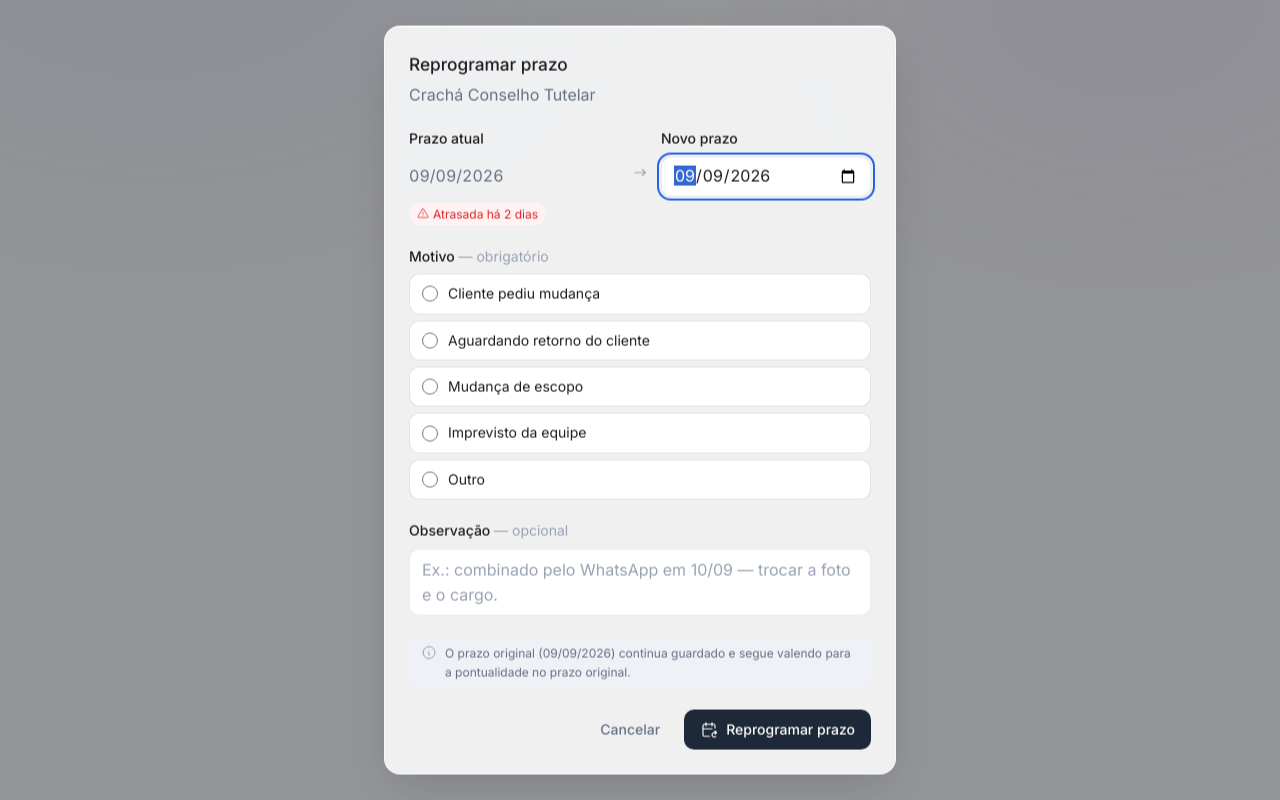
Test case: ReprogramarPrazoDialog › ano pela metade não vira prazo
The image size is (1280, 800).
Type "0202-09-18" into the date field labelled "Novo prazo" at [766, 176], box [661,156,871,196]
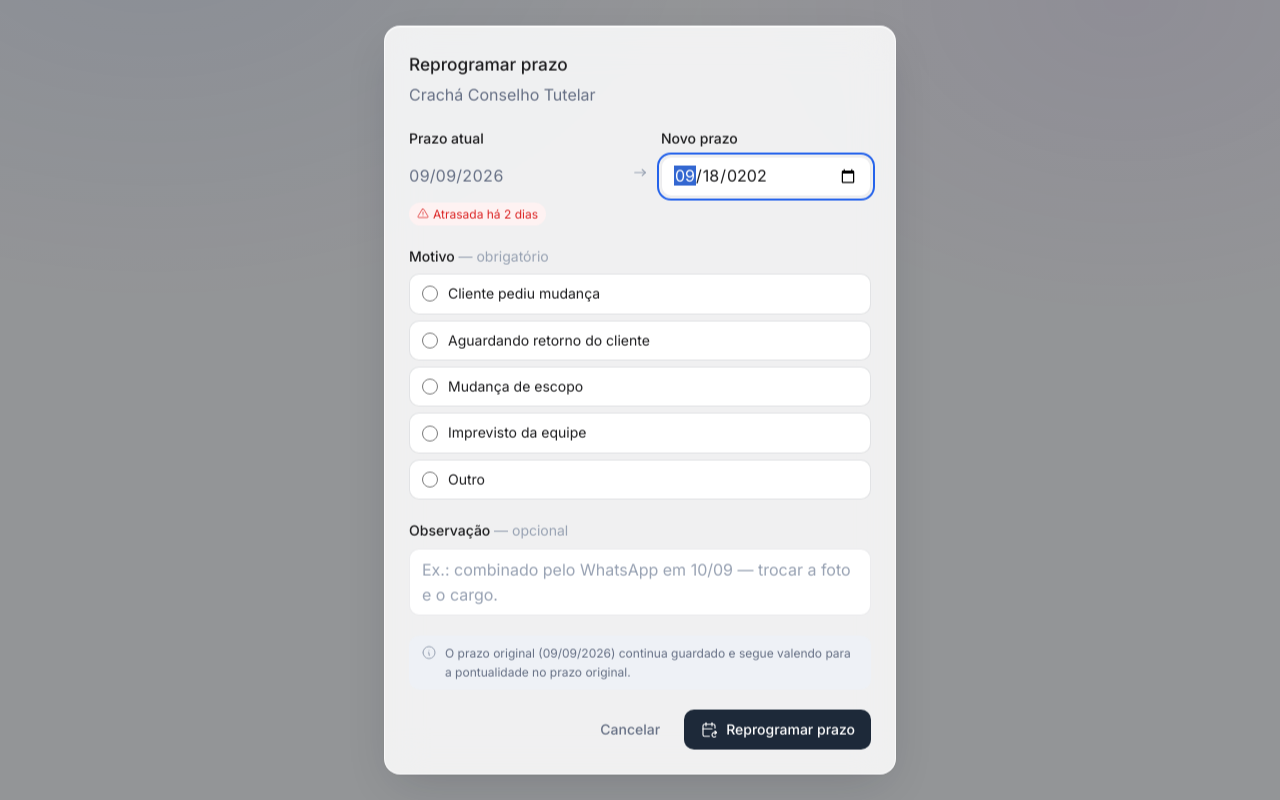
Click the radio button labelled "Outro" at [430, 480], box [422,472,438,488]
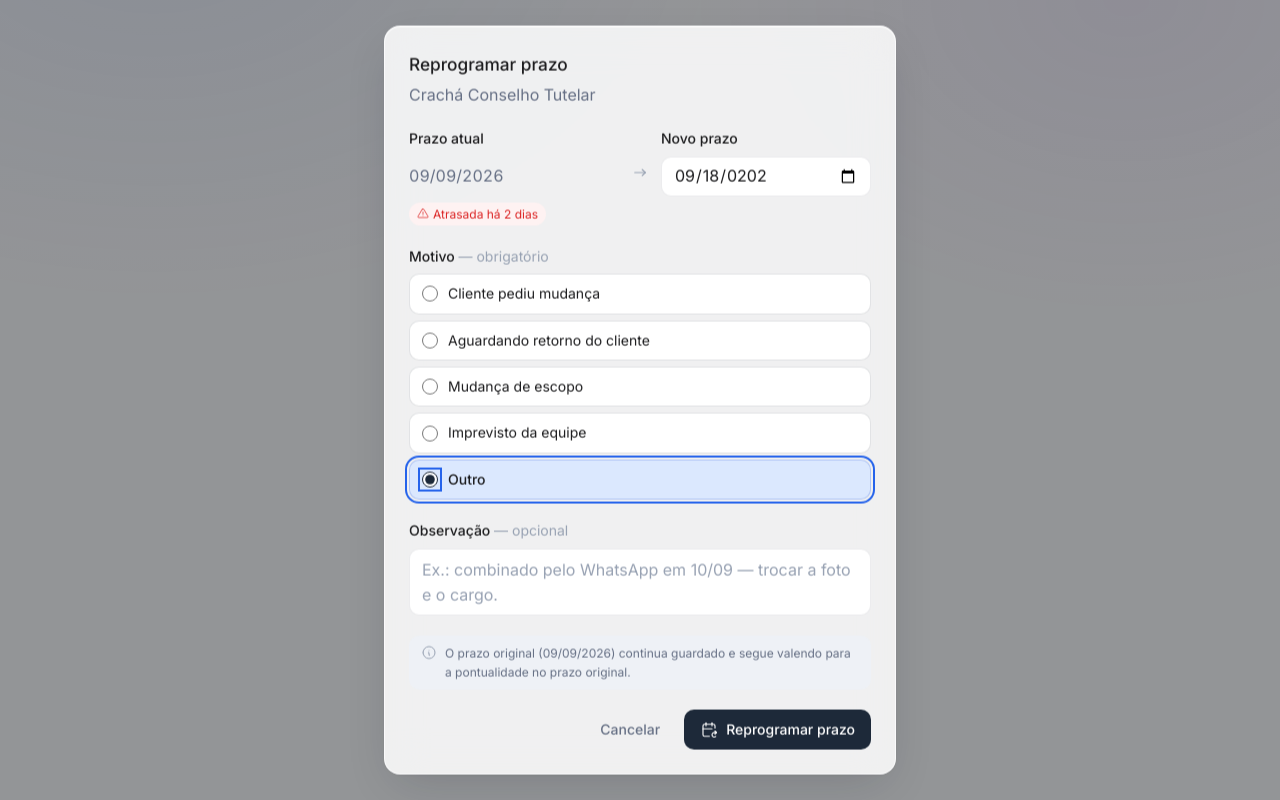
Click the button "Reprogramar prazo" at [778, 729], box [684,709,871,749]
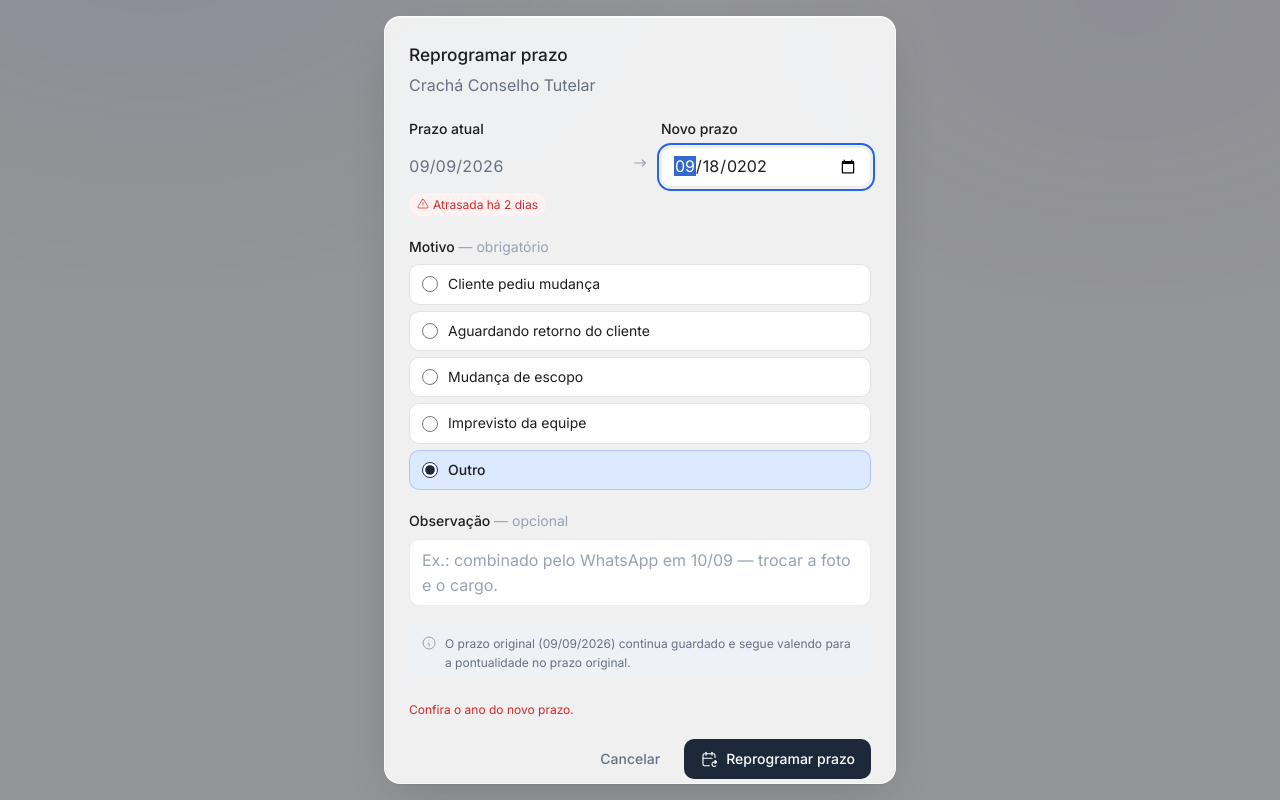
Check: the message reads "Confira o ano do novo prazo.", box [409,702,574,717]
